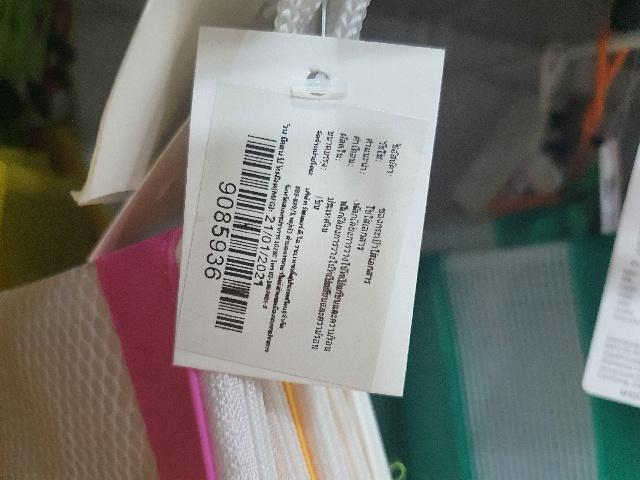Barcode: (198, 122, 282, 342)
